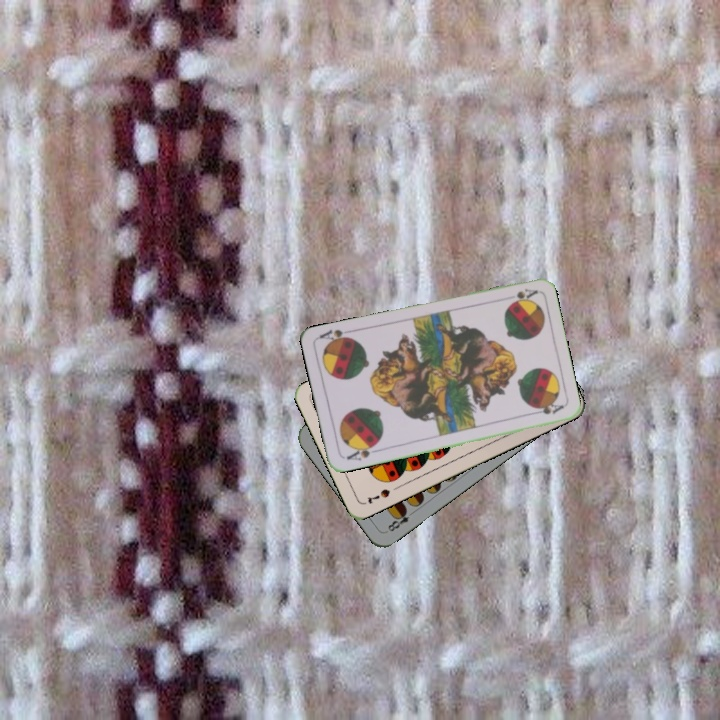E8: (384, 505, 418, 534)
S7: (363, 485, 393, 506)
SA: (342, 440, 381, 463), (505, 284, 540, 307)
